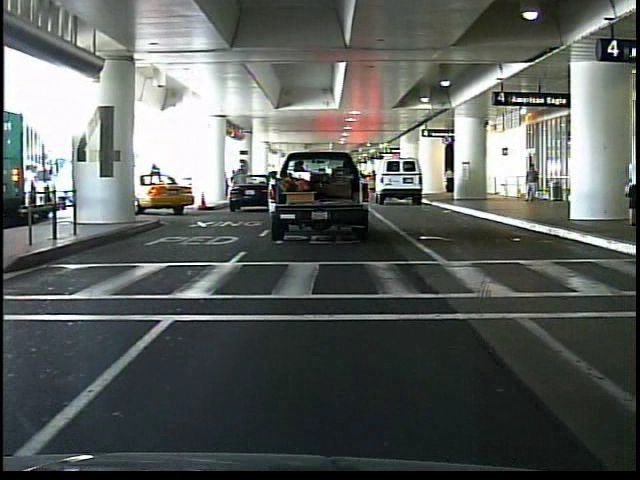person: (623, 149, 639, 231), (523, 158, 542, 207), (442, 166, 456, 199)
